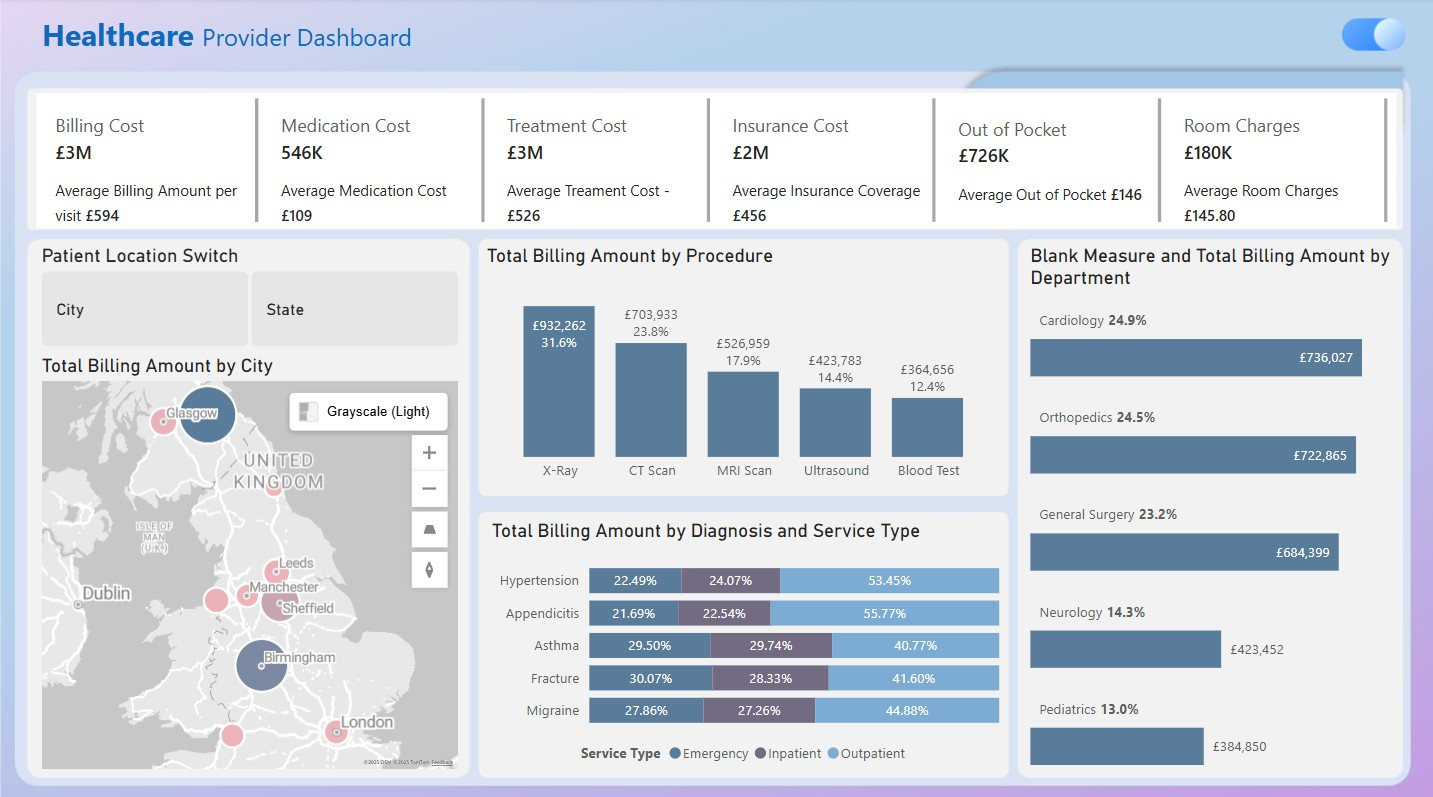

This screenshot's page, from the dashboard's own definition file:
{"tool":"powerbi","page":{"name":"Details-Light","canvas":[1280,720],"ordinal":0},"visuals":[{"type":"cardVisual","fields":{"Data":["Measure_Table.Total Billing Cost","Measure_Table.Total Medication Cost","Measure_Table.Total Treatment Cost","Measure_Table.Total Insurance coverage","Measure_Table.Out of Pocket","Measure_Table.Total Room Charges"]},"box":[32.6,84.5,1211.3,120.6],"z":0},{"type":"azureMap","fields":{"Category":["cities.City","cities.State"],"Size":["Measure_Table.Total Billing Cost"]},"box":[32.6,317.3,381.2,374],"z":1000},{"type":"advancedSlicerVisual","fields":{"Values":["Patient Location Switch.Patient Location Switch"]},"box":[32.6,219.6,381.2,96.5],"z":2000},{"type":"clusteredColumnChart","fields":{"Category":["procedures.Procedure"],"Y":["Measure_Table.Total Billing Amount"]},"box":[428.3,219.6,469.3,219.6],"z":3000},{"type":"hundredPercentStackedBarChart","fields":{"Y":["Measure_Table.Total Billing Amount"],"Category":["diagnoses.Diagnosis"],"Series":["visits.Service Type"]},"box":[433.1,464.5,462.1,226.8],"z":4000},{"type":"clusteredBarChart","fields":{"Category":["departments.Department"],"Y":["Measure_Table.Blank Measure","Measure_Table.Total Billing Amount"]},"box":[913.3,219.6,330.6,471.7],"z":5000},{"type":"textbox","box":[32,8.6,348.3,48],"z":6000},{"type":"actionButton","title":"On Button","box":[1190.8,0,90,65],"z":6500}]}

Visuals, with their boxes in screenshot pixels (x1, y1, x2, y2), scaled from the page's 1280x720 canvas onto the 1433x797 screenshot:
cardVisual - Measure_Table.Total Billing Cost x Measure_Table.Total Medication Cost: left=36, top=94, right=1393, bottom=227
azureMap - cities.City x cities.State: left=36, top=351, right=463, bottom=765
advancedSlicerVisual - Patient Location Switch.Patient Location Switch: left=36, top=243, right=463, bottom=350
clusteredColumnChart - procedures.Procedure x Measure_Table.Total Billing Amount: left=479, top=243, right=1005, bottom=486
hundredPercentStackedBarChart - Measure_Table.Total Billing Amount x diagnoses.Diagnosis: left=485, top=514, right=1002, bottom=765
clusteredBarChart - departments.Department x Measure_Table.Blank Measure: left=1022, top=243, right=1393, bottom=765
textbox: left=36, top=10, right=426, bottom=63
"On Button" actionButton: left=1333, top=0, right=1432, bottom=72
